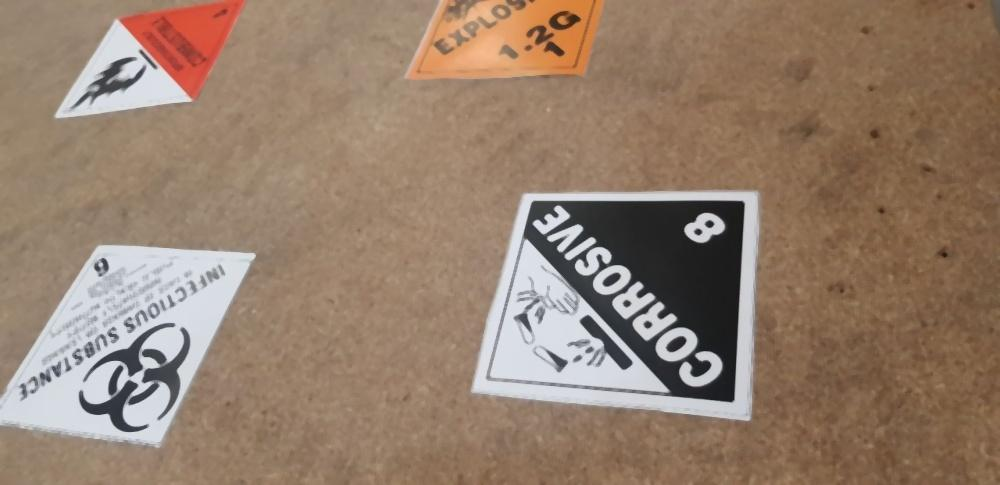corrosive: (467, 183, 767, 427)
explosive: (406, 1, 606, 83)
infectious-substance: (1, 242, 258, 444)
spontaneously-combustible: (51, 5, 248, 120)
